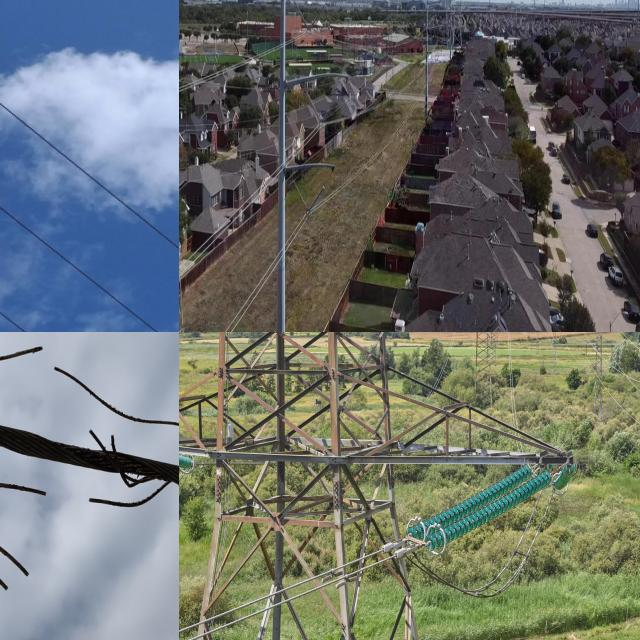杆塔: (179, 332, 452, 640), (179, 0, 192, 332), (584, 332, 615, 408), (467, 332, 503, 375)
正常电缆: (179, 532, 412, 640)
正常绝缘子: (396, 455, 568, 554), (320, 93, 341, 126), (305, 87, 323, 124), (293, 0, 312, 35), (292, 178, 310, 214), (307, 2, 327, 32), (306, 184, 325, 215)
电缆破损: (0, 332, 179, 603)
